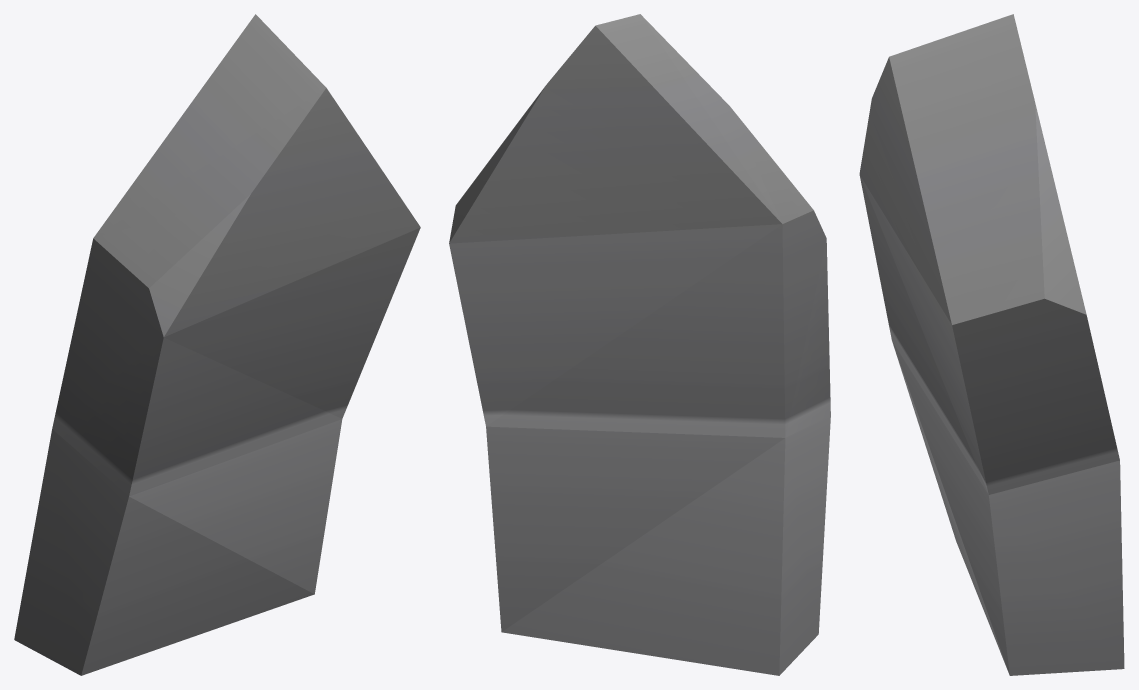
The model's file is ea_grave_stone_mini_01c_pre__4__lev1.glb.
The picture shows the model from 3 angles, left to right: view 1: azimuth 30°, elevation 25°; view 2: azimuth 150°, elevation 25°; view 3: azimuth 270°, elevation 25°; orthographic projection. The views are drawn at different scales.
Visible parts, largest first — view 1: ea_grave_stone_mini_01c_pre__4__lev1; view 2: ea_grave_stone_mini_01c_pre__4__lev1; view 3: ea_grave_stone_mini_01c_pre__4__lev1.
Part boxes in pixels (x1,y1,x2,y2): ea_grave_stone_mini_01c_pre__4__lev1: (14, 14, 420, 675); ea_grave_stone_mini_01c_pre__4__lev1: (449, 14, 830, 675); ea_grave_stone_mini_01c_pre__4__lev1: (859, 14, 1124, 675).
Bounding box in the file's own units: 0.433 × 0.6991 × 0.2656.
Materials: 1 (1 with a texture image).
